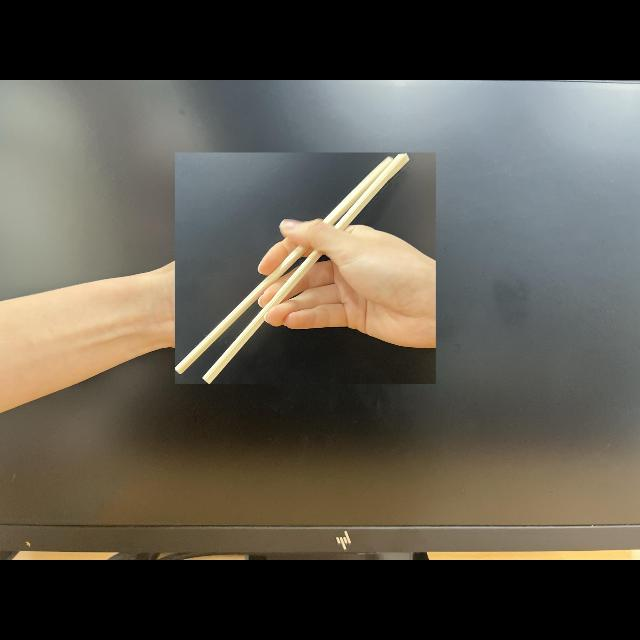stick: (175, 152, 435, 384)
